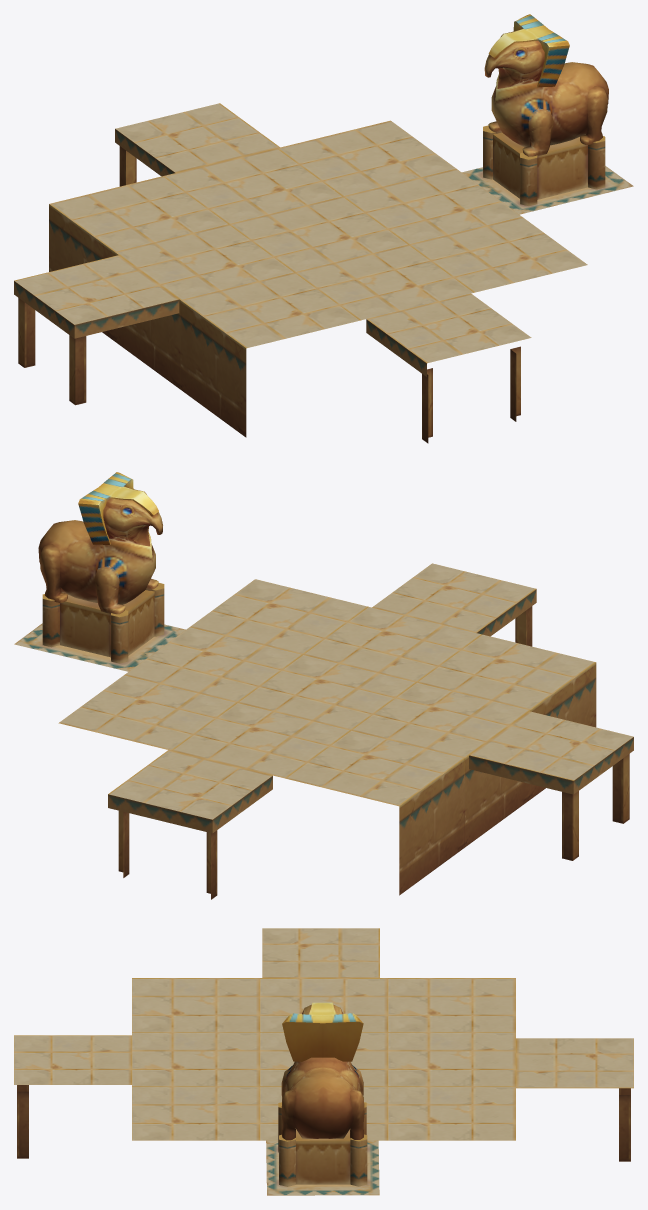
Rendered from Area_01_7.fbx.
3 views of the same model, one above another, from view 1: azimuth 30°, elevation 25°; view 2: azimuth 150°, elevation 25°; view 3: azimuth 270°, elevation 25° (orthographic). The views are drawn at different scales.
Visible parts, largest first — view 1: Area_01_7; view 2: Area_01_7; view 3: Area_01_7.
Boxes of the visible parts, left/top/right/bottom form: Area_01_7: left=14, top=14, right=633, bottom=443; Area_01_7: left=14, top=472, right=633, bottom=899; Area_01_7: left=14, top=928, right=633, bottom=1195.
Size of the model in its own units: 4932 by 2016 by 4840.
Materials: 1 (1 with a texture image).
